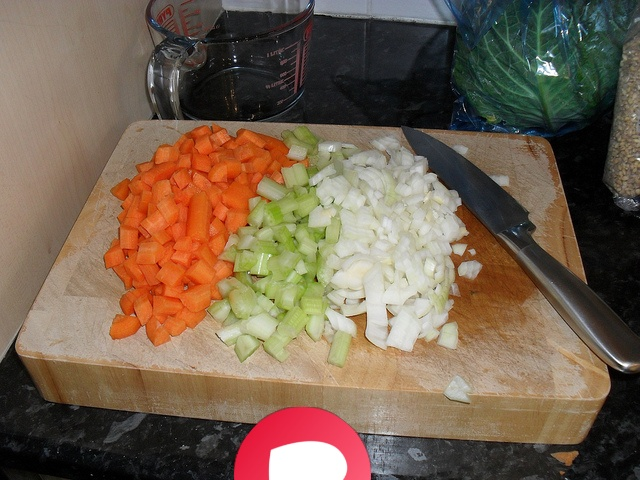love: (234, 407, 371, 480)
